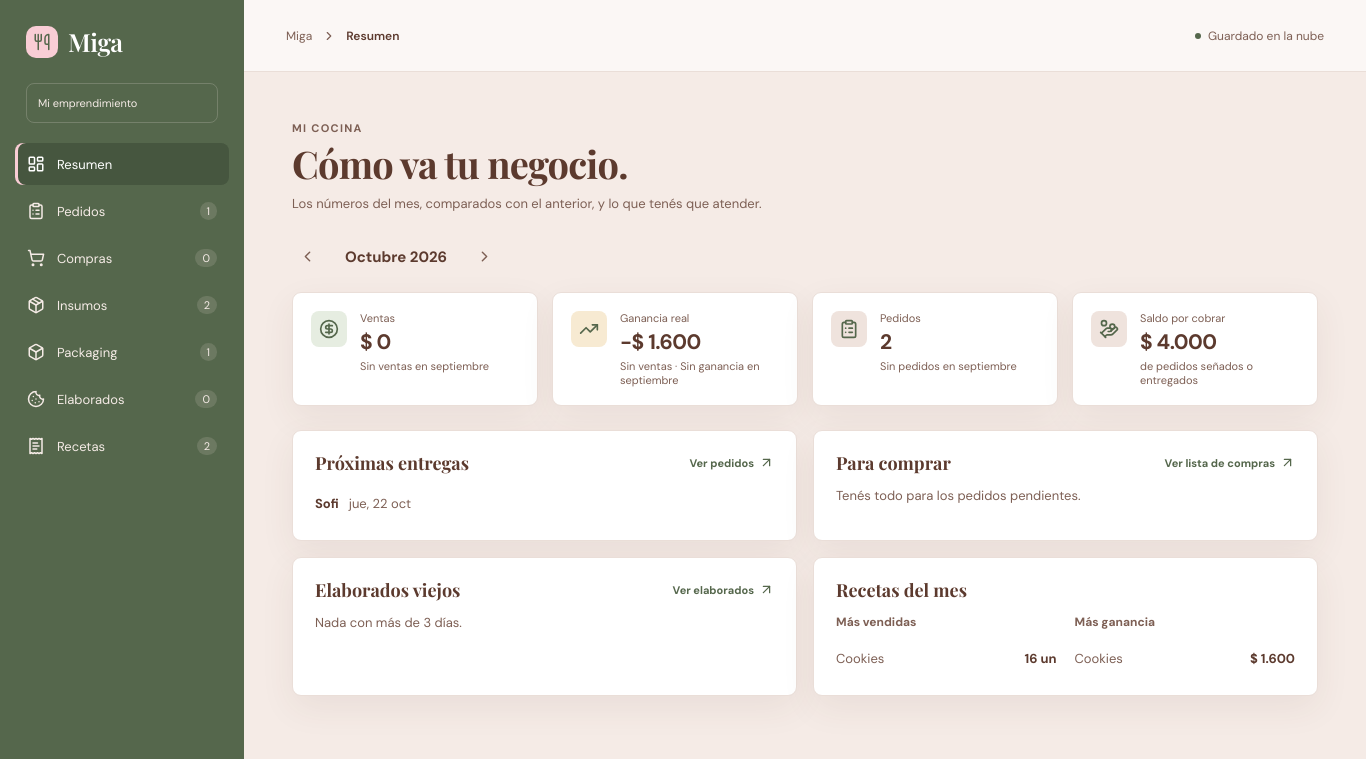
Test case: Orders › has its own view in the sidebar, counting the open orders
Click the link "Pedidos 1" at (81, 211), box [27, 202, 217, 220]
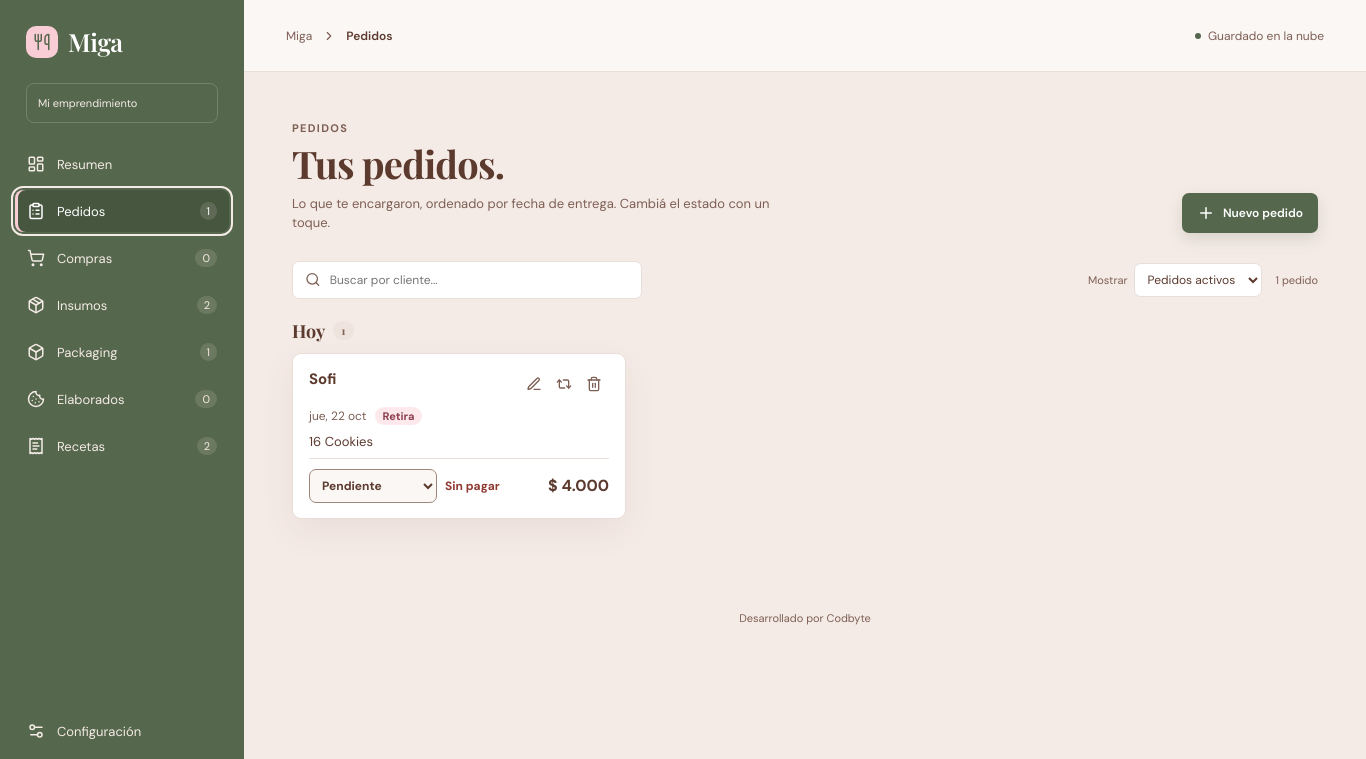
Now the heading "Tus pedidos." is shown, box [292, 138, 504, 189]
